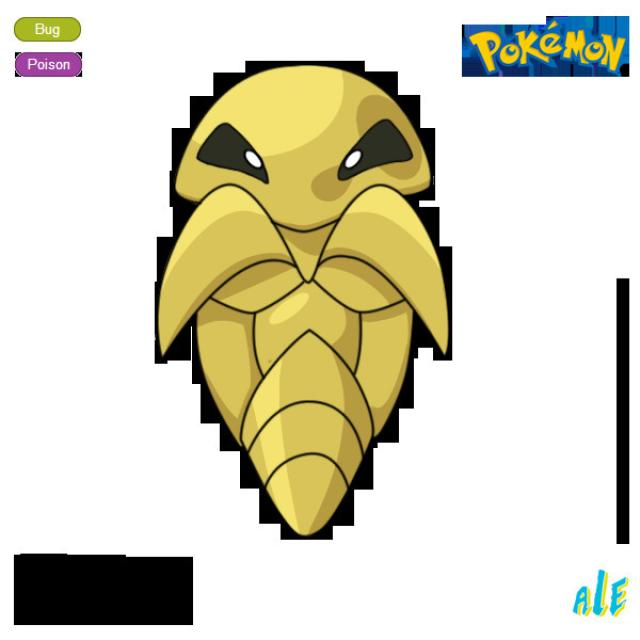Kakuna: (159, 59, 469, 552)
